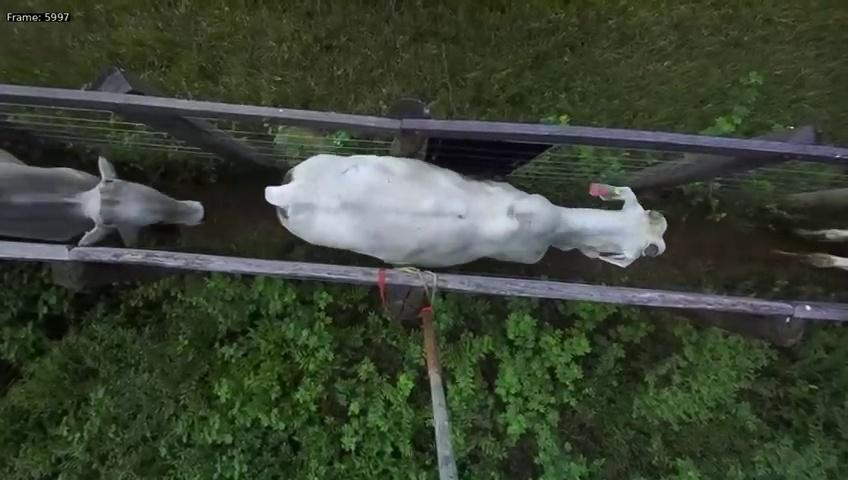cattle: (262, 122, 670, 272)
